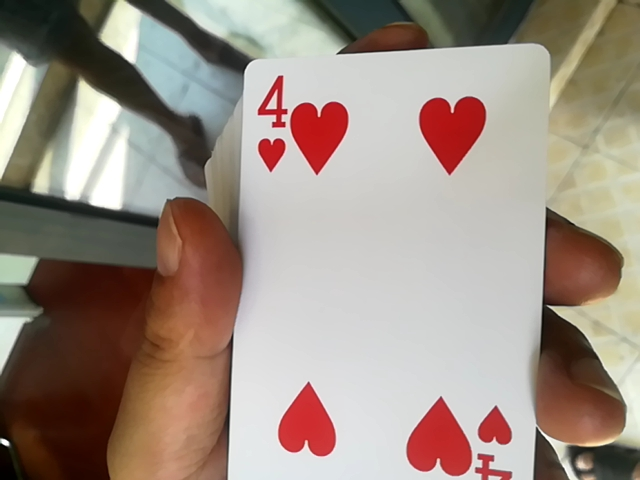hx 4: (220, 48, 576, 478)
